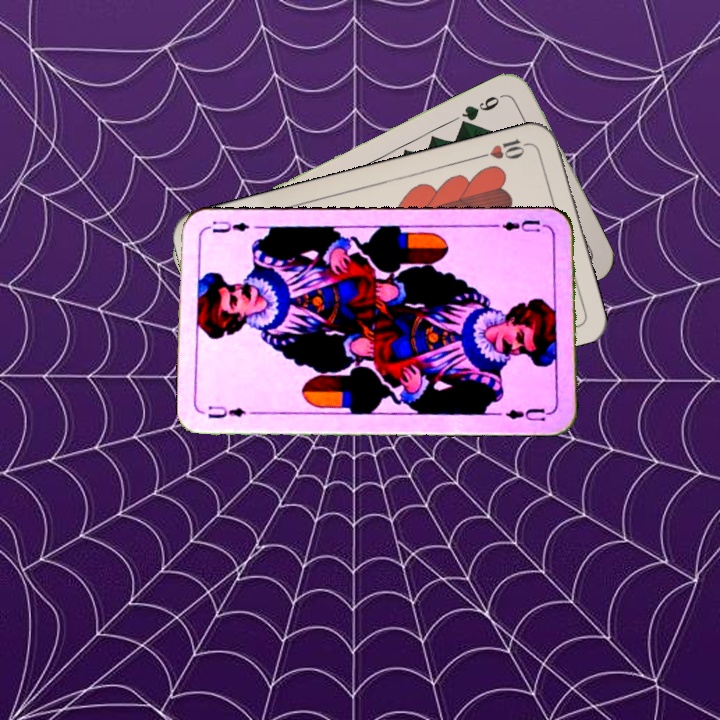EU: (492, 215, 543, 234), (204, 401, 249, 421)
G9: (456, 89, 509, 128)
H10: (475, 135, 534, 162)
